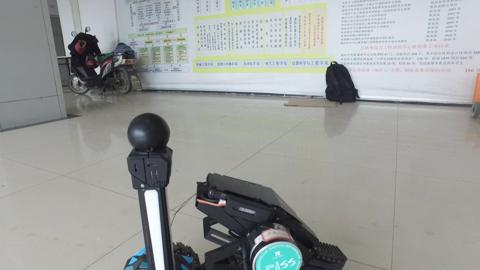bag: (313, 46, 369, 120)
chariot: (122, 113, 340, 270)
